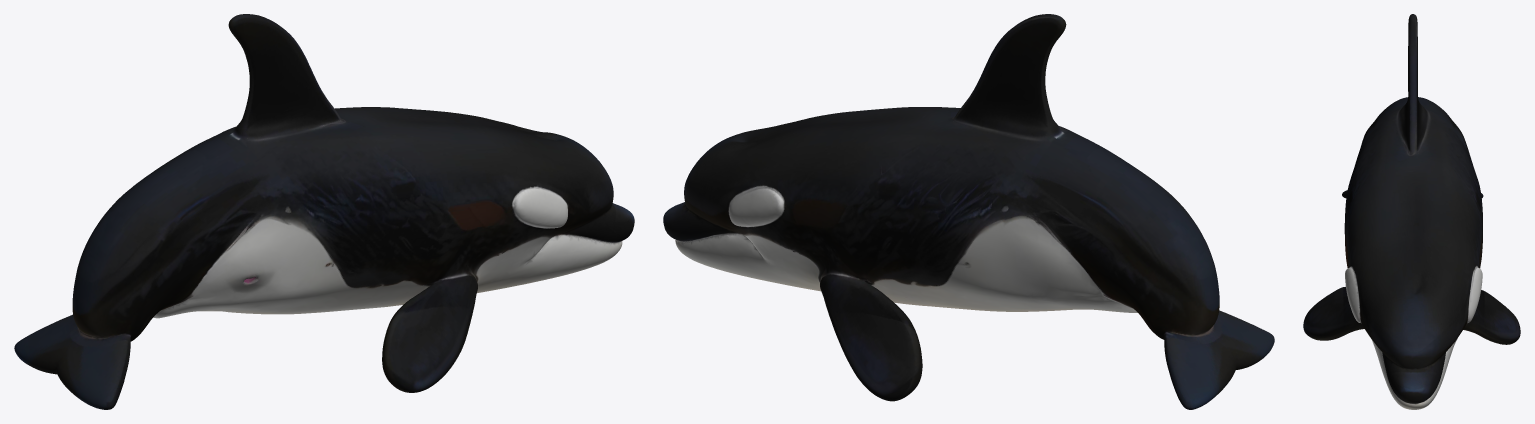
File: Orca.glb
3 views of the same model, side by side, from view 1: azimuth 30°, elevation 25°; view 2: azimuth 150°, elevation 25°; view 3: azimuth 270°, elevation 25° (orthographic). The views are drawn at different scales.
Visible parts, largest first — view 1: tripo_node_d4e68fb0-6e13-47dd-873a-a547e5a5a656; view 2: tripo_node_d4e68fb0-6e13-47dd-873a-a547e5a5a656; view 3: tripo_node_d4e68fb0-6e13-47dd-873a-a547e5a5a656.
Boxes of the visible parts, left/top/right/bottom form: tripo_node_d4e68fb0-6e13-47dd-873a-a547e5a5a656: left=14, top=14, right=634, bottom=409; tripo_node_d4e68fb0-6e13-47dd-873a-a547e5a5a656: left=663, top=14, right=1274, bottom=409; tripo_node_d4e68fb0-6e13-47dd-873a-a547e5a5a656: left=1303, top=14, right=1520, bottom=409.
Size of the model in its own units: 1 by 0.6046 by 0.4177.
1 material, 1 textured.
